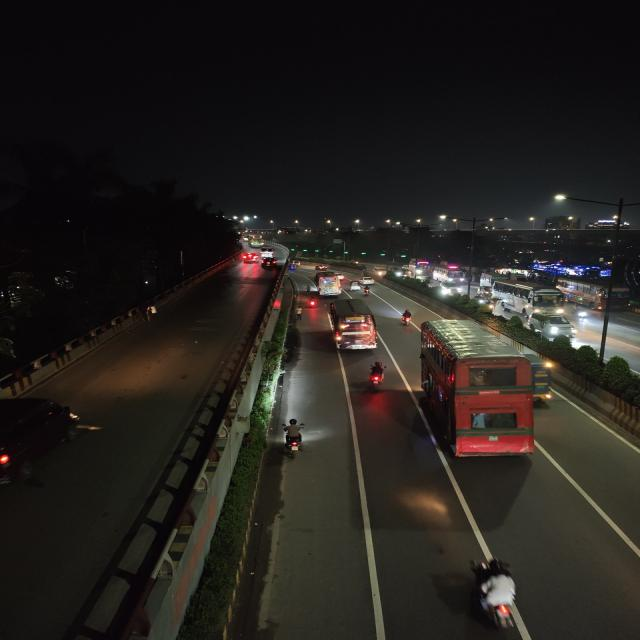bus: (414, 316, 547, 466), (325, 299, 382, 353), (492, 280, 568, 317), (560, 278, 630, 312), (313, 271, 345, 297), (435, 267, 462, 286), (386, 264, 409, 278), (412, 261, 429, 279)
car: (525, 310, 580, 342), (260, 258, 280, 270), (239, 252, 259, 263), (360, 274, 376, 284)
cng: (476, 285, 492, 298)
motorcycle: (278, 417, 310, 460), (363, 359, 390, 394), (397, 307, 416, 328), (574, 304, 590, 320), (306, 294, 320, 309), (360, 285, 373, 297)
